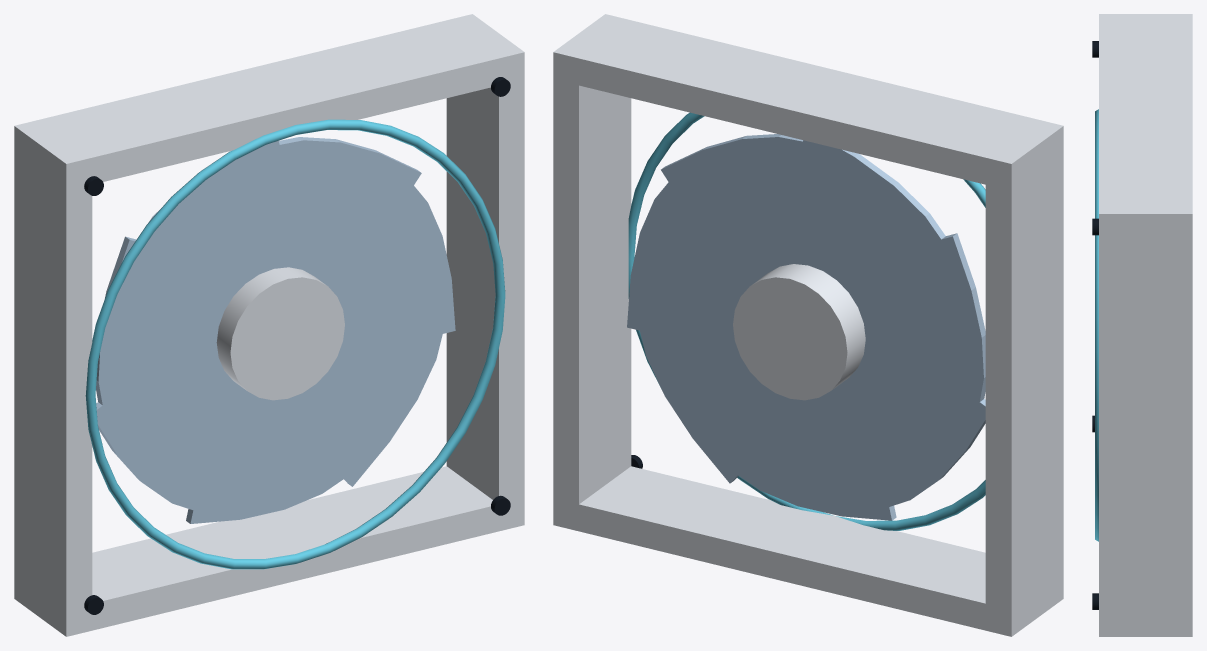
The model's file is retail-lian-li-uni-fan-tl-140-wireless-white.glb.
3 renders of one model, left to right at view 1: azimuth 30°, elevation 25°; view 2: azimuth 150°, elevation 25°; view 3: azimuth 270°, elevation 25°, orthographic. The views are drawn at different scales.
Parts seen in each view (by area): view 1: Frame edge (×4), Blade (×7), Intake rim, Motor hub; view 2: Frame edge (×4), Blade (×7), Motor hub, Intake rim; view 3: Frame edge (×3), Intake rim.
Part boxes in pixels (x1,y1,x2,y2): Frame edge (×4): [14, 14, 524, 636]; Blade (×7): [96, 137, 455, 523]; Intake rim: [85, 119, 505, 569]; Motor hub: [216, 267, 344, 400]; Frame edge (×4): [553, 14, 1063, 636]; Blade (×7): [627, 134, 985, 520]; Motor hub: [733, 264, 865, 400]; Intake rim: [628, 112, 985, 530]; Frame edge (×3): [1099, 14, 1192, 636]; Intake rim: [1095, 109, 1098, 541].
Bounding box in the file's own units: 0.142 × 0.14 × 0.03.
